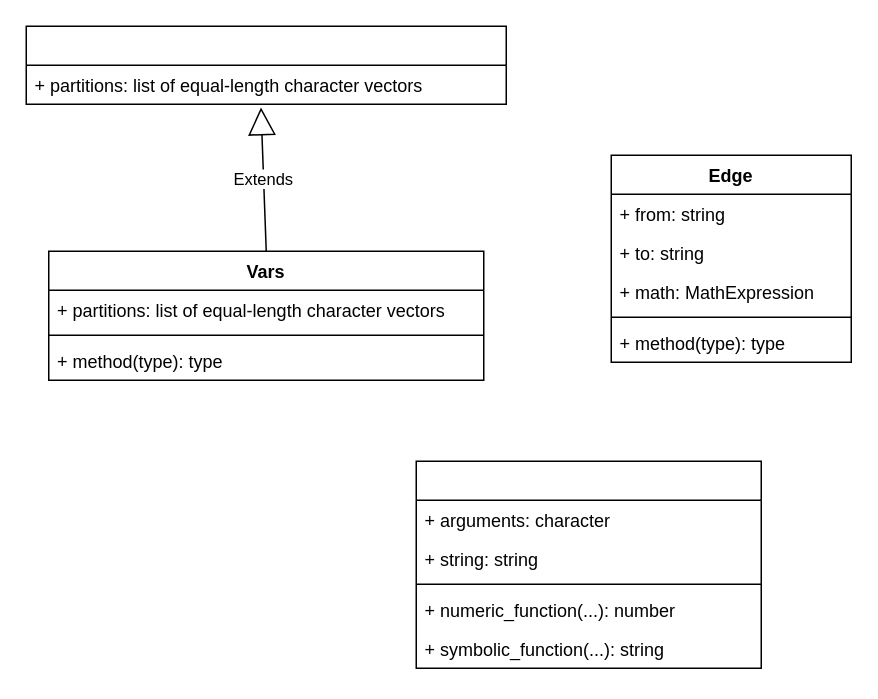
Some shapes in this 878 by 699 pixel diagram are drawn without their labels. Here are the shapes that lost their labels. From the top down, the box of each, then its label:
(25, 25, 506, 104): LabelledPartition
(415, 460, 761, 668): MathExpression
